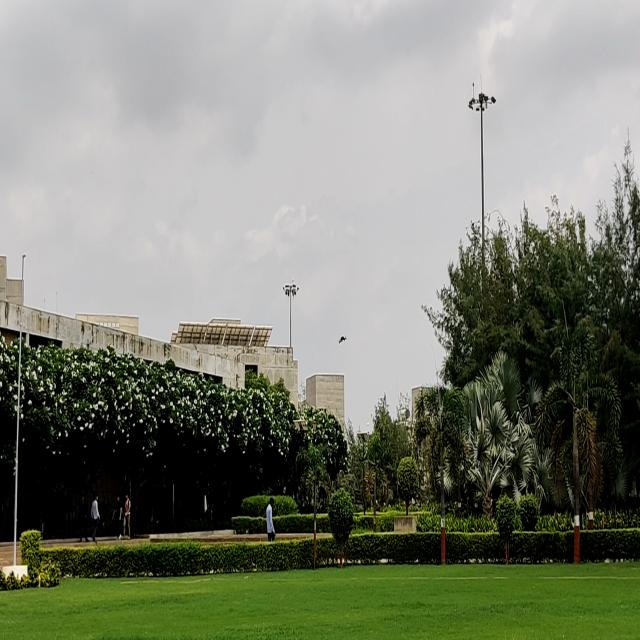drone: (331, 328, 350, 352)
